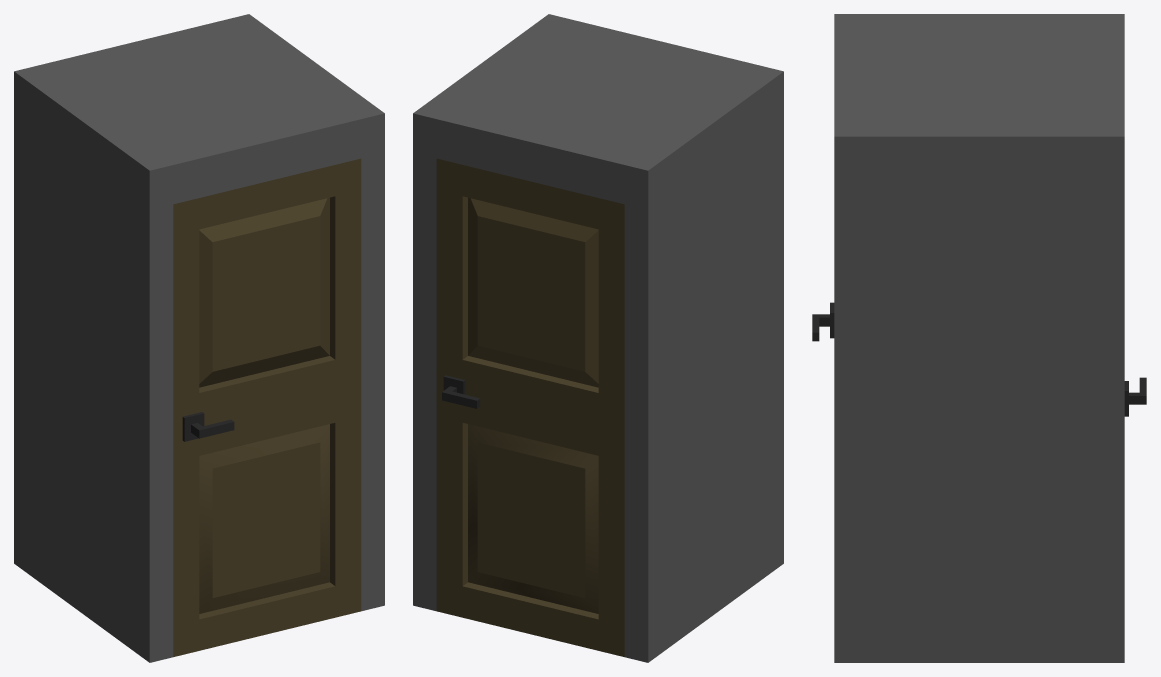
The model's file is doors.fbx.
The picture shows the model from 3 angles, left to right: view 1: azimuth 30°, elevation 25°; view 2: azimuth 150°, elevation 25°; view 3: azimuth 270°, elevation 25°; orthographic projection. The views are drawn at different scales.
Visible parts, largest first — view 1: pCube93, pCube95, pCube96; view 2: pCube93, pCube95, pCube96; view 3: pCube93, pCube96 (×2).
Boxes of the visible parts, x1,y1,x2,y2 form: pCube93: (14, 14, 384, 662); pCube95: (173, 158, 361, 656); pCube96: (182, 412, 234, 441); pCube93: (413, 14, 783, 662); pCube95: (436, 158, 624, 656); pCube96: (442, 375, 480, 408); pCube93: (834, 14, 1124, 662); pCube96 (×2): (812, 302, 1146, 416).
Bounding box in the file's own units: 1 × 2 × 1.15.
1 material, 1 textured.
